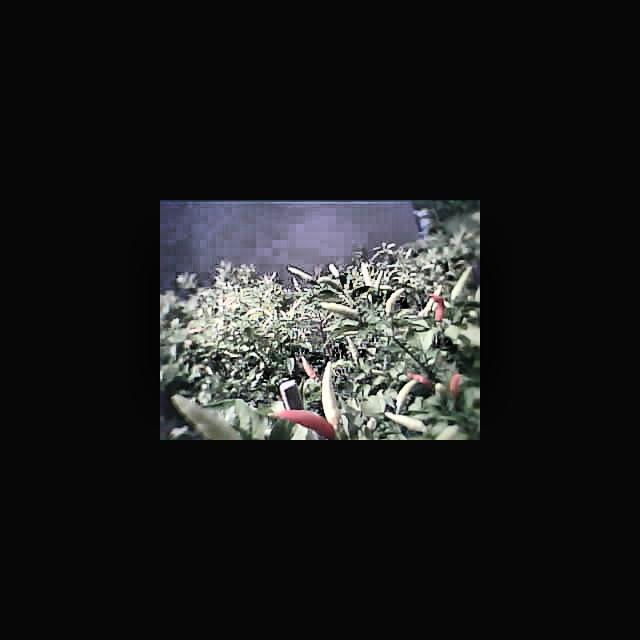Cabai: (271, 407, 332, 436), (302, 352, 325, 383), (432, 292, 446, 323)
